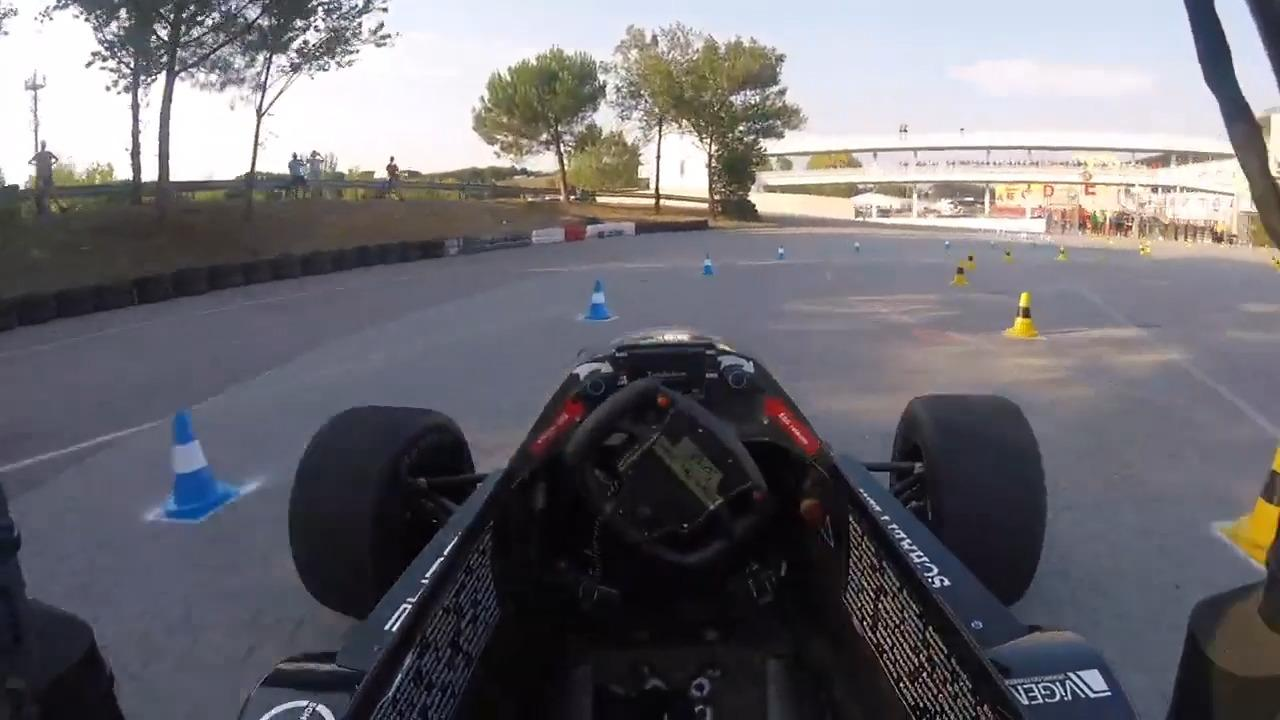blue_cone: (148, 403, 246, 523), (578, 274, 631, 329), (691, 243, 724, 289), (768, 238, 791, 269)
yellow_cone: (997, 284, 1053, 344), (952, 258, 978, 292)
